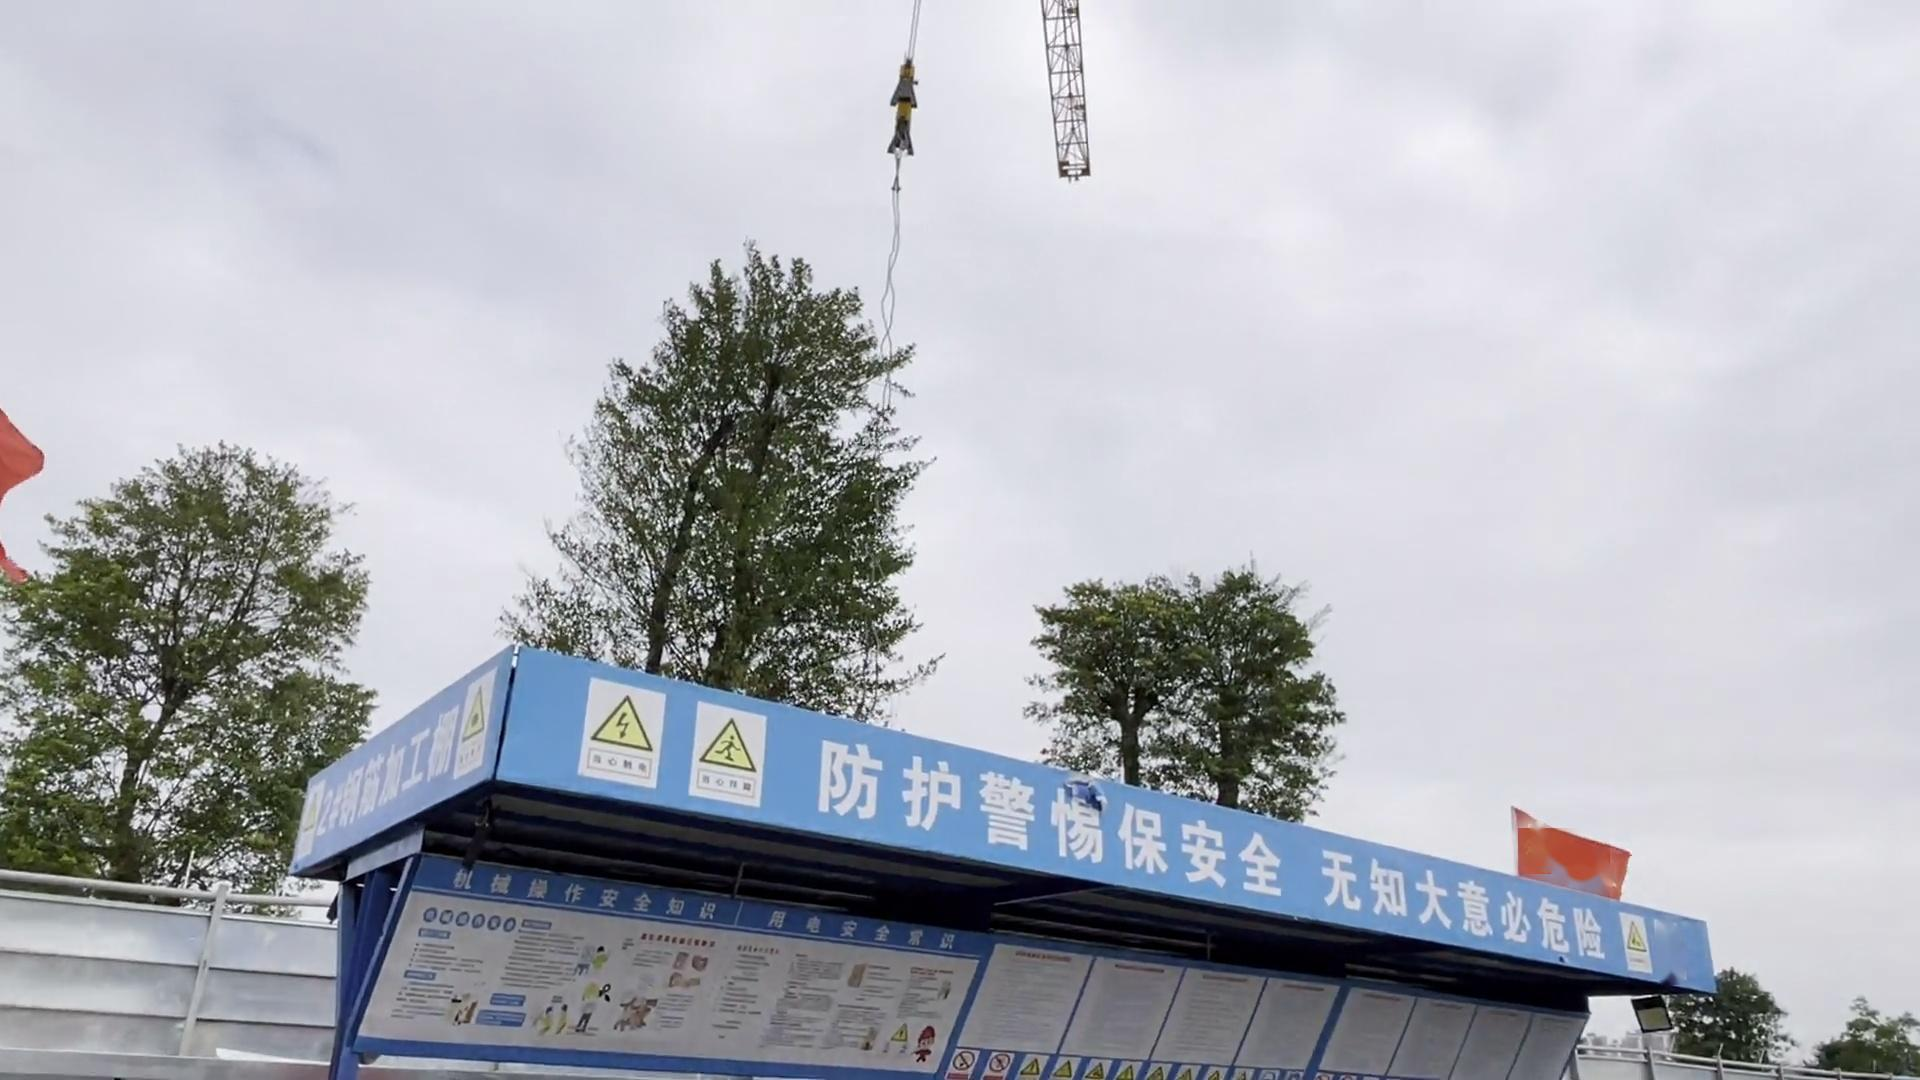fence: (33, 915, 385, 1060)
hook: (881, 53, 928, 152)
slogan: (583, 684, 1662, 976), (290, 671, 491, 856)
